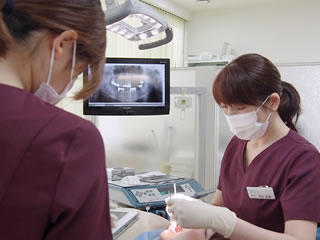mask: (224, 111, 268, 140)
